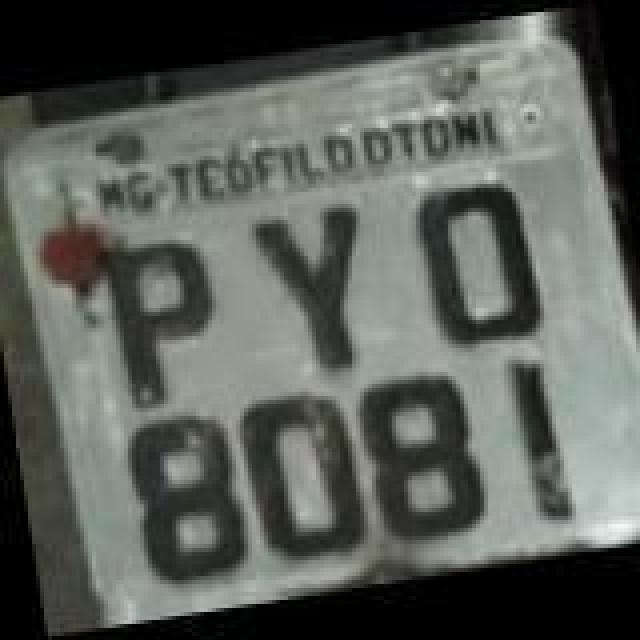1: (504, 354, 584, 526)
8: (114, 402, 262, 590), (354, 364, 494, 548)
O: (406, 168, 554, 360), (230, 380, 378, 564)
P: (92, 230, 228, 410)
Y: (242, 196, 382, 380)
